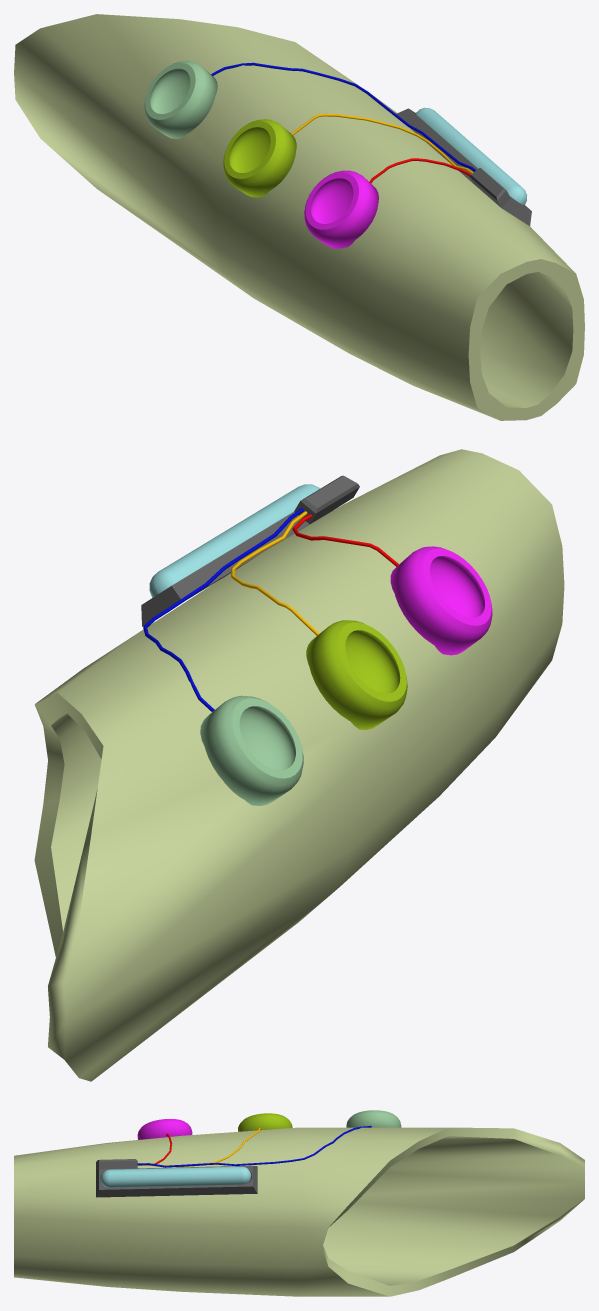
File: GauntletOld.fbx
3 views of the same model, one above another, from view 1: azimuth 30°, elevation 25°; view 2: azimuth 150°, elevation 25°; view 3: azimuth 270°, elevation 25° (orthographic). The views are drawn at different scales.
Visible parts, largest first — view 1: Gauntlet, Slot 3, Slot 2, Slot 1, Mana bar; view 2: Gauntlet, Slot 1, Slot 2, Slot 3, Mana bar; view 3: Gauntlet, Mana bar, Slot 3, Slot 1, Slot 2.
Part boxes in pixels (x1,y1,x2,y2): Gauntlet: [14, 14, 584, 420]; Slot 3: [304, 170, 378, 248]; Slot 2: [223, 119, 296, 197]; Slot 1: [144, 61, 217, 138]; Mana bar: [415, 107, 527, 205]; Gauntlet: [34, 449, 564, 1081]; Slot 1: [200, 695, 303, 805]; Slot 2: [306, 620, 407, 729]; Slot 3: [390, 546, 492, 655]; Mana bar: [149, 484, 319, 597]; Gauntlet: [14, 1125, 584, 1296]; Mana bar: [100, 1166, 251, 1187]; Slot 3: [137, 1119, 192, 1139]; Slot 1: [346, 1110, 401, 1127]; Slot 2: [238, 1113, 292, 1131].
Size of the model in its own units: 3.56 by 3.51 by 11.81.
